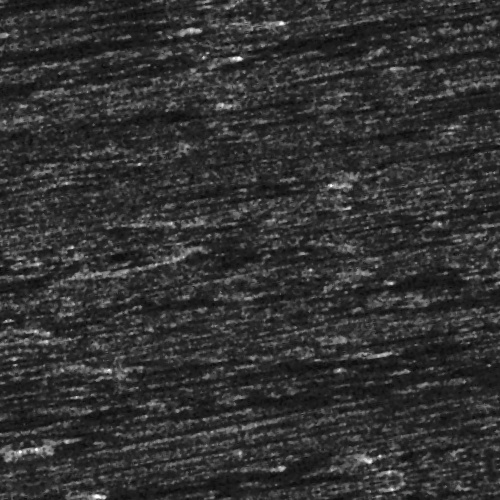object: (441, 294, 500, 315), (269, 464, 362, 477), (203, 95, 266, 106), (441, 152, 494, 159), (485, 392, 500, 411), (322, 194, 353, 197)
shadow: (47, 392, 500, 411), (164, 294, 478, 315), (56, 464, 315, 477), (73, 95, 234, 106), (417, 465, 500, 478), (315, 152, 467, 159), (431, 20, 500, 31), (445, 79, 500, 90), (307, 48, 500, 51), (387, 241, 500, 246), (180, 194, 337, 197)
